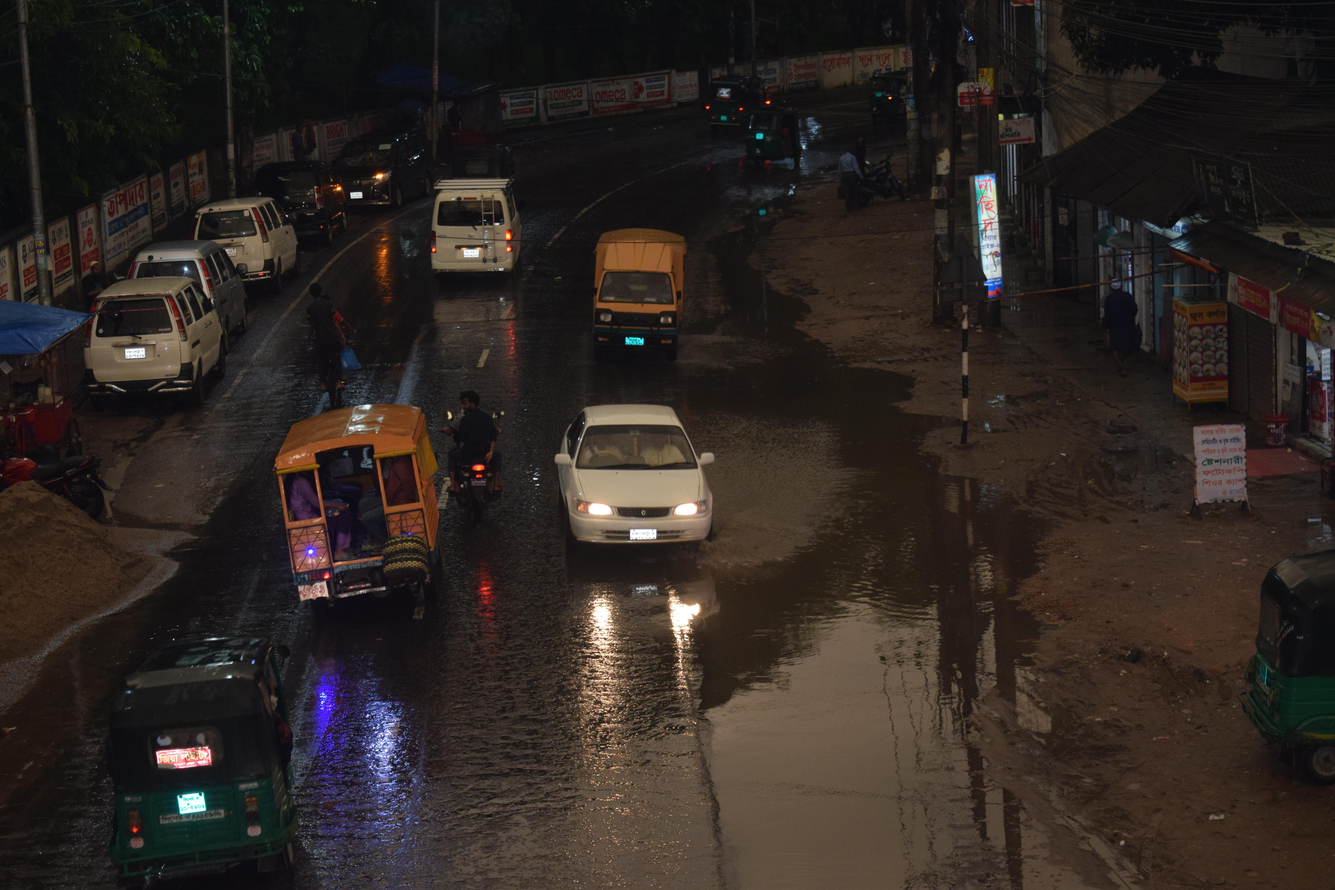Bike: (416, 364, 530, 546)
Car: (224, 398, 490, 653), (517, 363, 766, 622), (71, 260, 239, 433), (566, 216, 727, 386), (402, 156, 567, 310), (314, 108, 457, 245), (164, 177, 316, 303), (99, 234, 261, 345), (239, 149, 363, 246)
